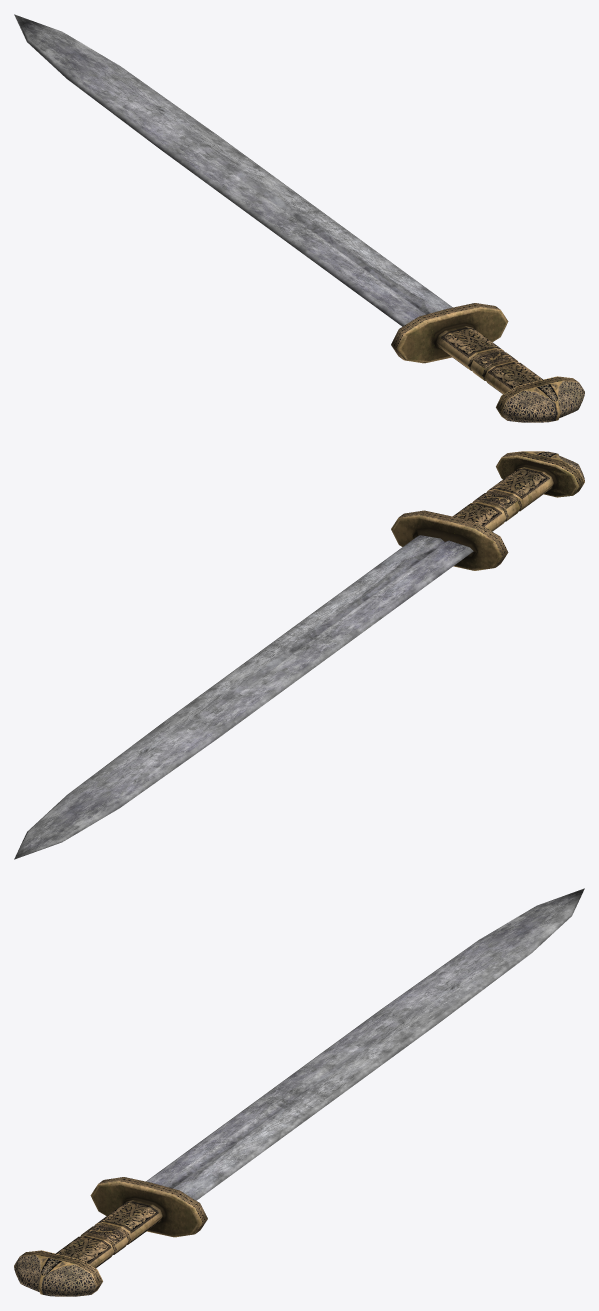
Rendered from whsword.glb.
3 renders of one model, top to bottom at view 1: azimuth 30°, elevation 25°; view 2: azimuth 150°, elevation 25°; view 3: azimuth 330°, elevation 25°, orthographic.
Visible parts, largest first — view 1: defaultobject; view 2: defaultobject; view 3: defaultobject.
Part boxes in pixels (x1,y1,x2,y2): defaultobject: (14,14,584,422); defaultobject: (14,451,584,859); defaultobject: (14,888,584,1296).
Bounding box in the file's own units: 0.8033 × 0.3059 × 6.77.
Materials: 1 (1 with a texture image).
